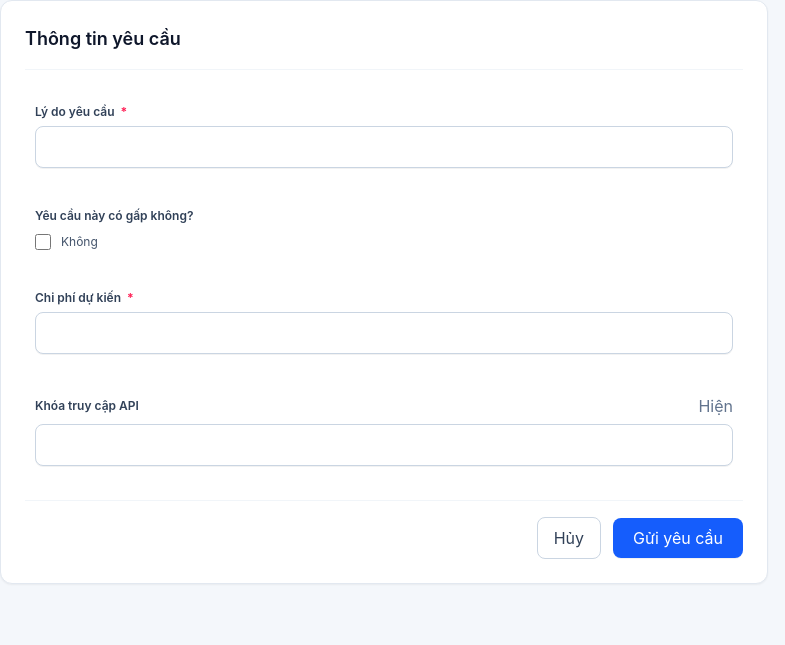
DynamicTicketForm Component › validates required fields before allowing submission
Note: Submit empty form
Click the button with test id "submit-ticket-button" at (678, 538), box [613,518,743,558]
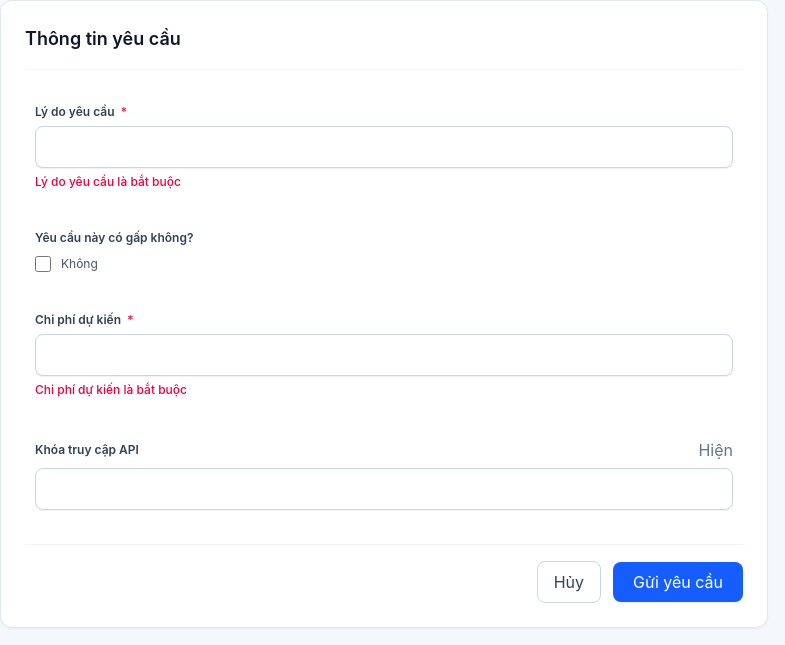
Expected: the text "Lý do yêu cầu là bắt buộc" is shown, [35,174,181,189]
Expected: the text "Chi phí dự kiến là bắt buộc" is shown, [35,382,187,397]
